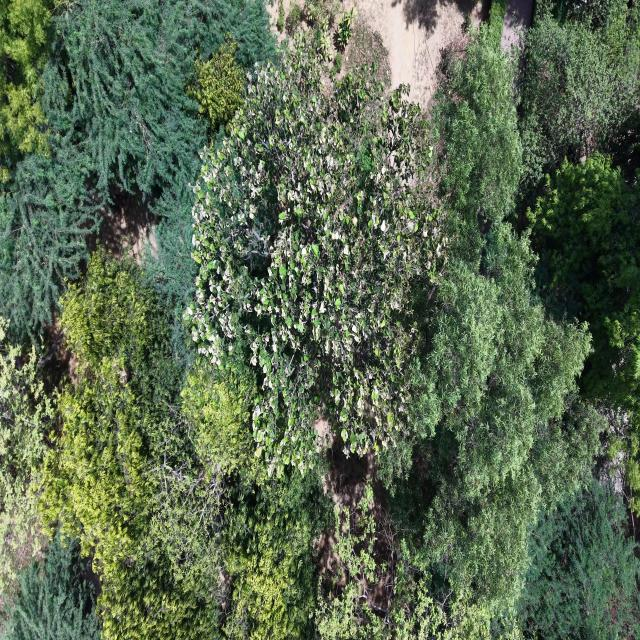DRY_AREA: (342, 0, 490, 107), (342, 0, 489, 107), (343, 0, 488, 107), (356, 0, 483, 107), (88, 190, 156, 263), (501, 0, 533, 50)
VEGETATION_TREE: (0, 0, 639, 639), (381, 29, 604, 622), (387, 28, 603, 615), (188, 41, 447, 474), (42, 251, 326, 638), (0, 0, 274, 339), (392, 229, 603, 611), (42, 251, 218, 638), (517, 3, 639, 528), (57, 0, 271, 216), (161, 366, 330, 638), (43, 251, 180, 560), (529, 153, 639, 513), (530, 153, 639, 408), (315, 485, 489, 639), (518, 0, 639, 197), (433, 25, 522, 267), (0, 136, 100, 343), (518, 481, 639, 639), (223, 461, 330, 639), (0, 317, 53, 613), (2, 537, 100, 639), (0, 0, 53, 183), (188, 35, 244, 132), (277, 0, 358, 62), (332, 19, 391, 90), (603, 110, 639, 181), (304, 0, 340, 30), (337, 7, 357, 50), (488, 0, 506, 43), (314, 26, 333, 61), (285, 2, 303, 36), (276, 0, 285, 32), (334, 52, 343, 73)
